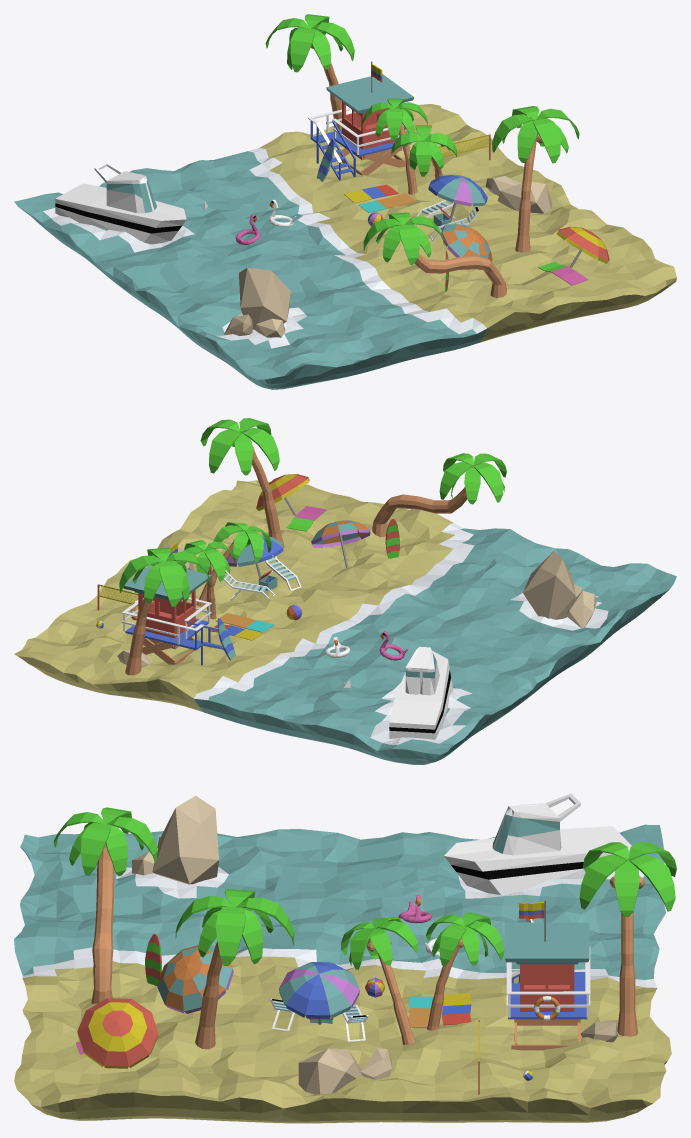
Rendered from beach.glb.
The picture shows the model from 3 angles, top to bottom: view 1: azimuth 30°, elevation 25°; view 2: azimuth 150°, elevation 25°; view 3: azimuth 270°, elevation 25°; orthographic projection. The views are drawn at different scales.
Visible parts, largest first — view 1: LightBlue-material (×5), Sand-material, Green-material (×5), W2-material, White-material (×2), R1-material, Brown-material (×3), Red-material (×2), Blue-material, Black-material, Orange_003-material; view 2: LightBlue-material (×2), Sand-material, Green-material (×5), W2-material, White-material (×2), Brown-material (×4), R1-material, Red-material, Blue-material; view 3: Sand-material, LightBlue-material (×5), Green-material (×5), White-material (×2), Brown-material (×6), R1-material, W2-material, Red-material (×2), Blue-material (×2), Yellow-material, Orange_003-material, Black-material (+1 smaller).
Part boxes in pixels (<box>): LightBlue-material (×5): <box>14,74,490,389</box>; Sand-material: <box>260,104,676,342</box>; Green-material (×5): <box>265,14,579,264</box>; W2-material: <box>43,147,486,348</box>; White-material (×2): <box>55,107,413,244</box>; R1-material: <box>224,176,552,337</box>; Brown-material (×3): <box>338,119,542,297</box>; Red-material (×2): <box>342,101,609,261</box>; Blue-material: <box>310,120,411,180</box>; Black-material: <box>55,203,181,233</box>; Orange_003-material: <box>442,224,492,261</box>; LightBlue-material (×2): <box>123,528,676,764</box>; Sand-material: <box>14,480,454,712</box>; Green-material (×5): <box>119,418,506,606</box>; W2-material: <box>194,523,608,744</box>; White-material (×2): <box>121,597,452,739</box>; Brown-material (×4): <box>125,446,473,675</box>; R1-material: <box>117,543,596,665</box>; Red-material: <box>138,590,195,638</box>; Blue-material: <box>125,618,223,665</box>; Sand-material: <box>14,956,671,1123</box>; LightBlue-material (×5): <box>14,814,665,1018</box>; Green-material (×5): <box>53,807,676,969</box>; White-material (×2): <box>444,793,631,1020</box>; Brown-material (×6): <box>91,823,644,1050</box>; R1-material: <box>132,795,617,1094</box>; W2-material: <box>22,848,657,987</box>; Red-material (×2): <box>77,964,574,1066</box>; Blue-material (×2): <box>285,962,587,1019</box>; Yellow-material: <box>77,1002,158,1068</box>; Orange_003-material: <box>157,945,232,1011</box>; Black-material: <box>451,862,583,879</box>.
Size of the model in its own units: 125 by 42.74 by 127.
